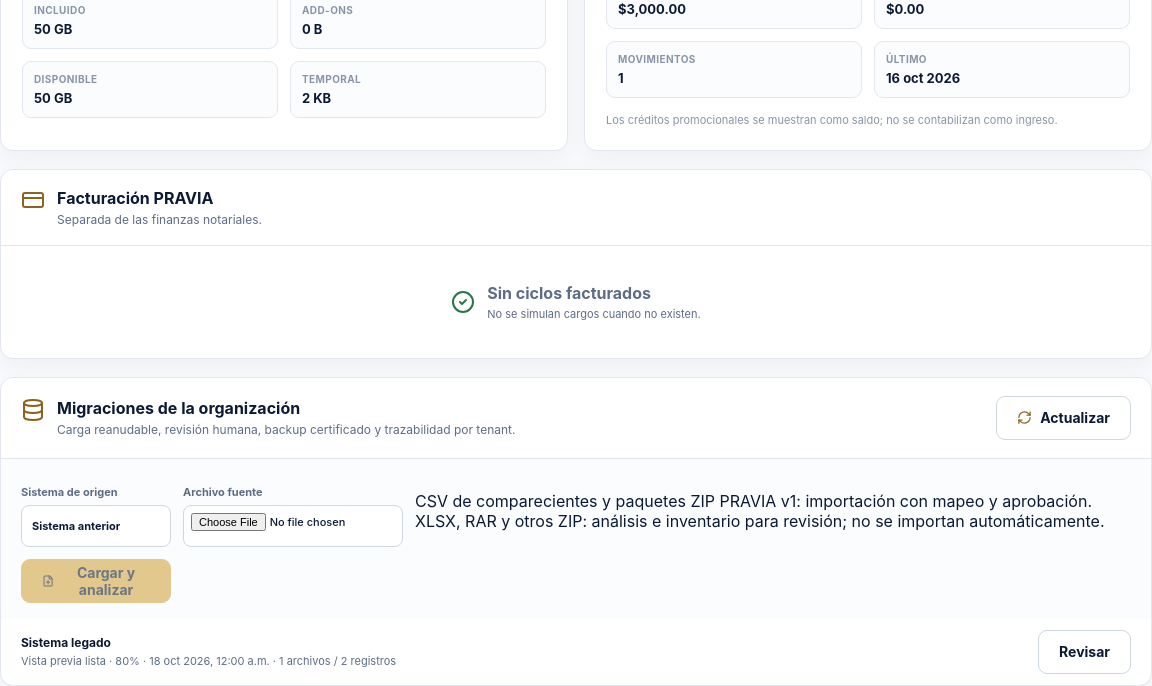
Plan y consumo · datos reales del read model › muestra el control de migración sólo con permiso y no habilita ejecución sin backup certificado
(page scrolled)
Check: the heading "Migraciones de la organización" is shown, box [57,398,300,418]
Click the button "Revisar" at (1084, 652), box [1038,630,1131,674]
(page scrolled)
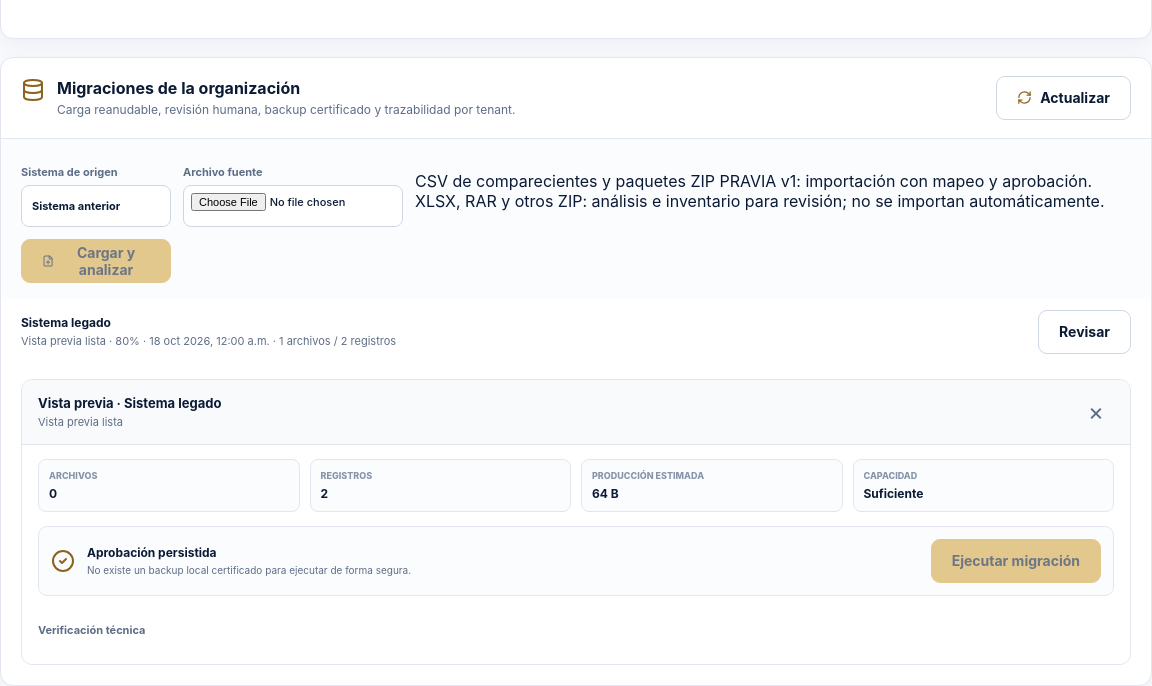
Check: the text "No existe un backup local certificado para ejecutar de forma segura." is shown, box [87,564,411,576]
Check: the button "Ejecutar migración" is disabled, box [931,538,1101,582]
